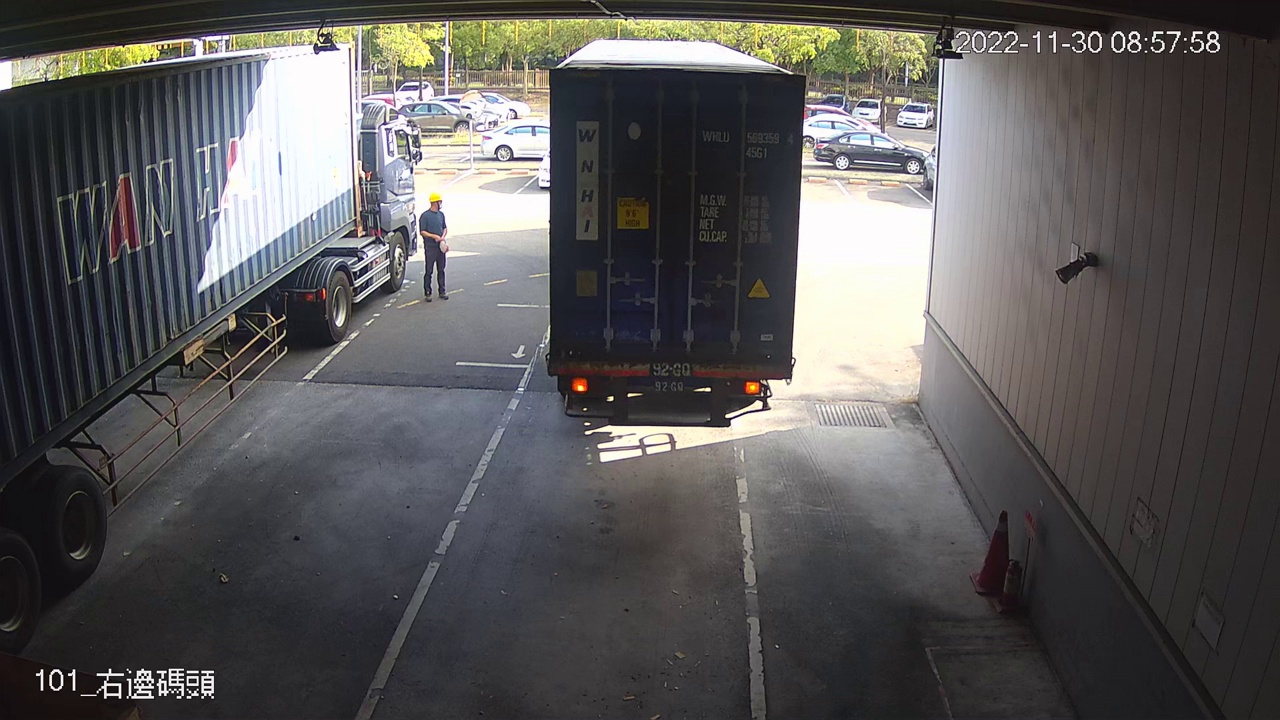container: (698, 125, 798, 166)
